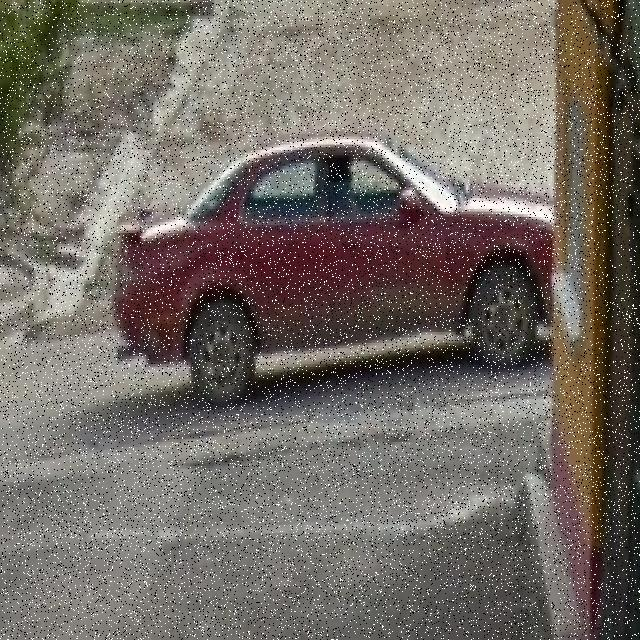cars: (123, 134, 561, 408)
